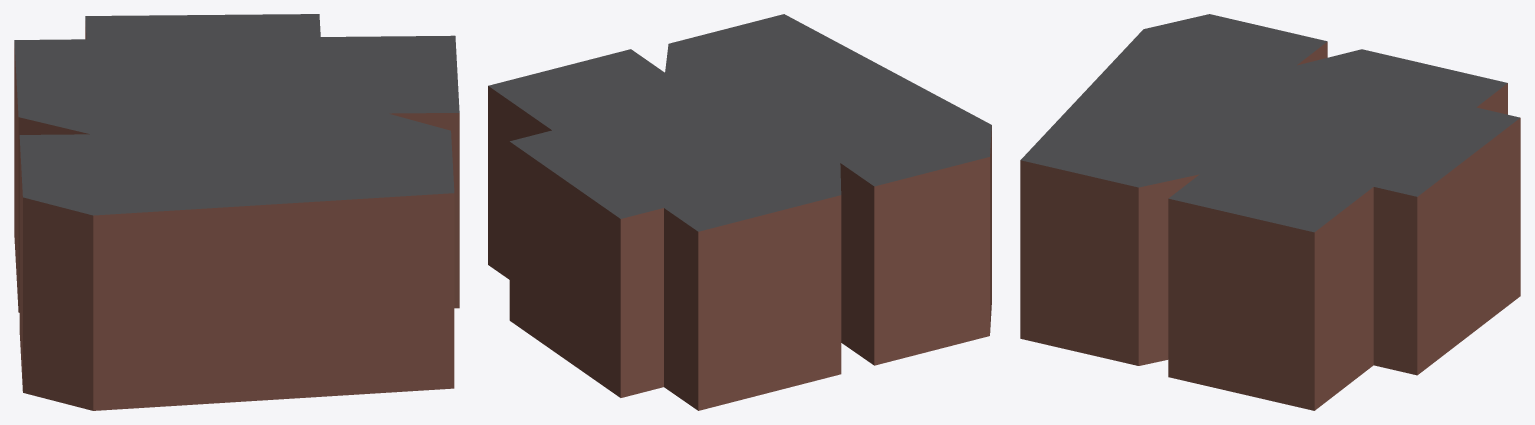
File: 3_4.far.glb
3 views of the same model, side by side, from view 1: azimuth 30°, elevation 25°; view 2: azimuth 150°, elevation 25°; view 3: azimuth 270°, elevation 25° (orthographic). The views are drawn at different scales.
Visible parts, largest first — view 1: 3_4_far; view 2: 3_4_far; view 3: 3_4_far.
Boxes of the visible parts, left/top/right/bottom form: 3_4_far: left=14, top=14, right=459, bottom=410; 3_4_far: left=488, top=14, right=991, bottom=410; 3_4_far: left=1020, top=14, right=1520, bottom=410.
Size of the model in its own units: 25.71 by 9.8 by 24.88.
